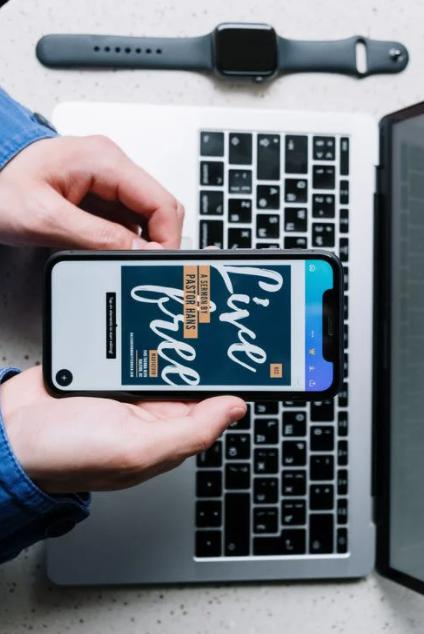mobile: (47, 252, 343, 397)
